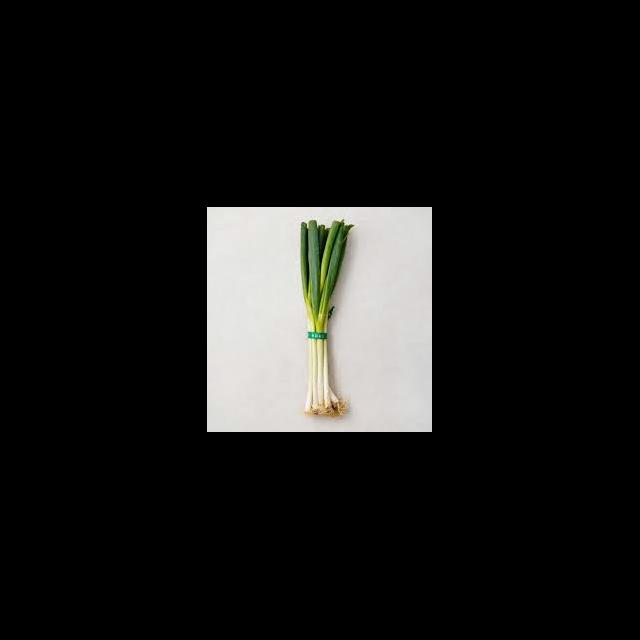green_onion: (292, 208, 362, 422)
